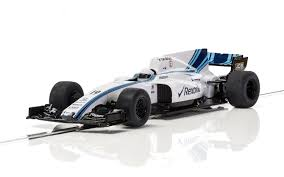f1_car: (23, 42, 266, 137)
